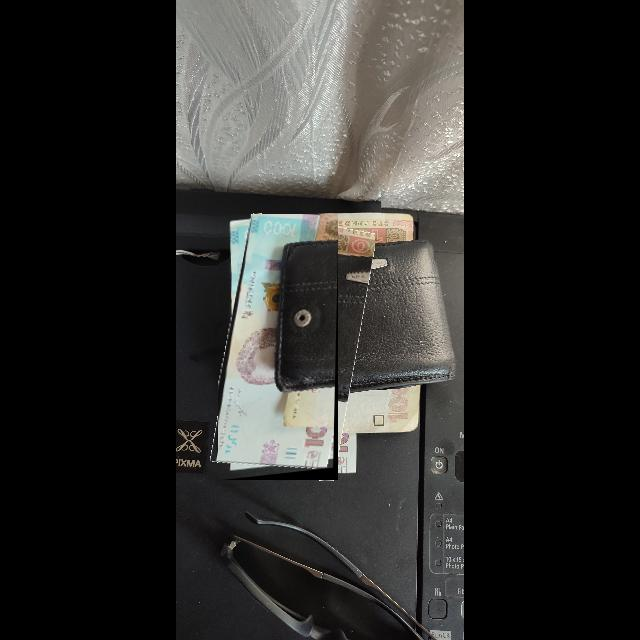1000uah: (218, 214, 336, 472)
